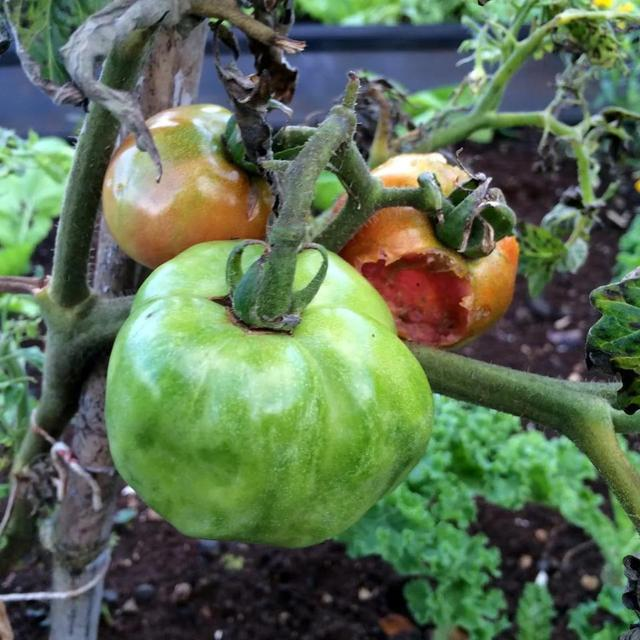Spotted wilt Virus Fruit: (120, 112, 286, 263)
